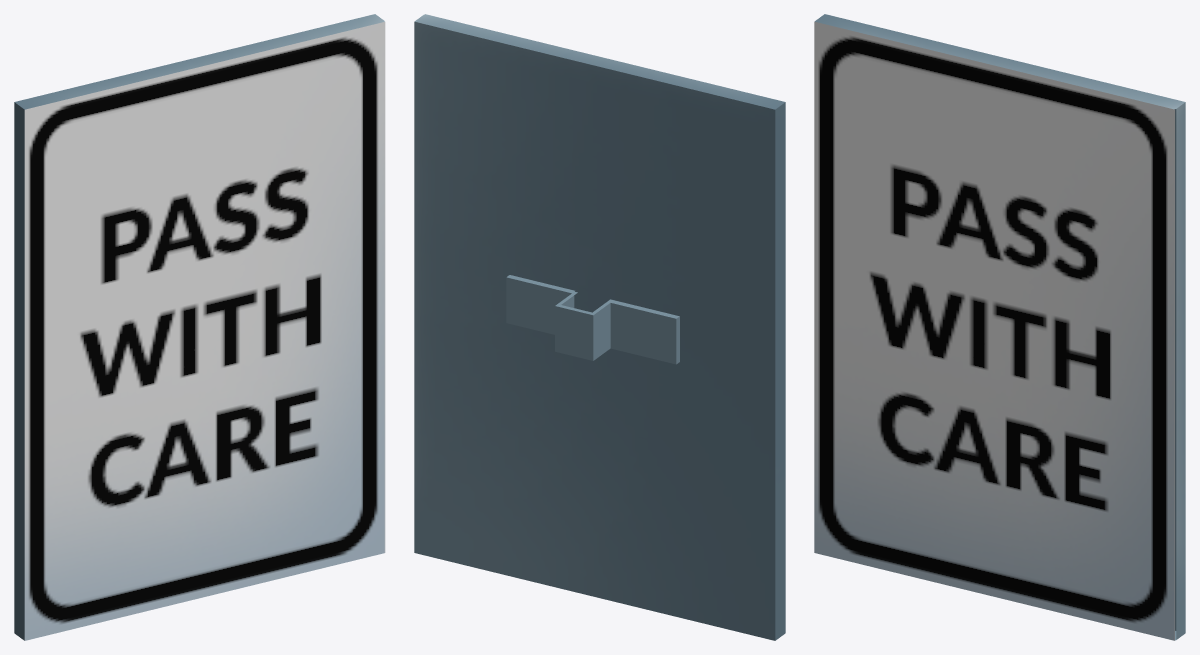
File: Sign60.fbx
The picture shows the model from 3 angles, left to right: view 1: azimuth 30°, elevation 25°; view 2: azimuth 150°, elevation 25°; view 3: azimuth 330°, elevation 25°; orthographic projection.
Visible parts, largest first — view 1: Sign60; view 2: Sign60; view 3: Sign60.
Part boxes in pixels (x1,y1,x2,y2): Sign60: (14, 14, 385, 640); Sign60: (414, 14, 785, 640); Sign60: (814, 14, 1185, 640).
Size of the model in its own units: 1 by 0.1489 by 1.41.
